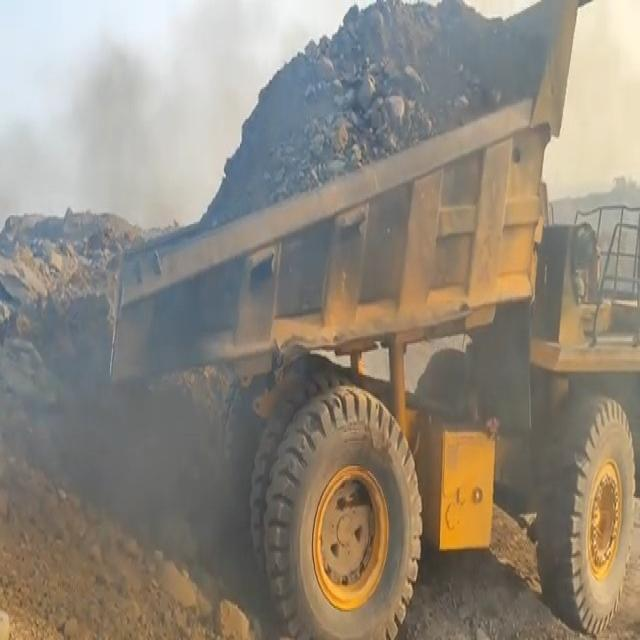dump_truck: (108, 1, 640, 640)
